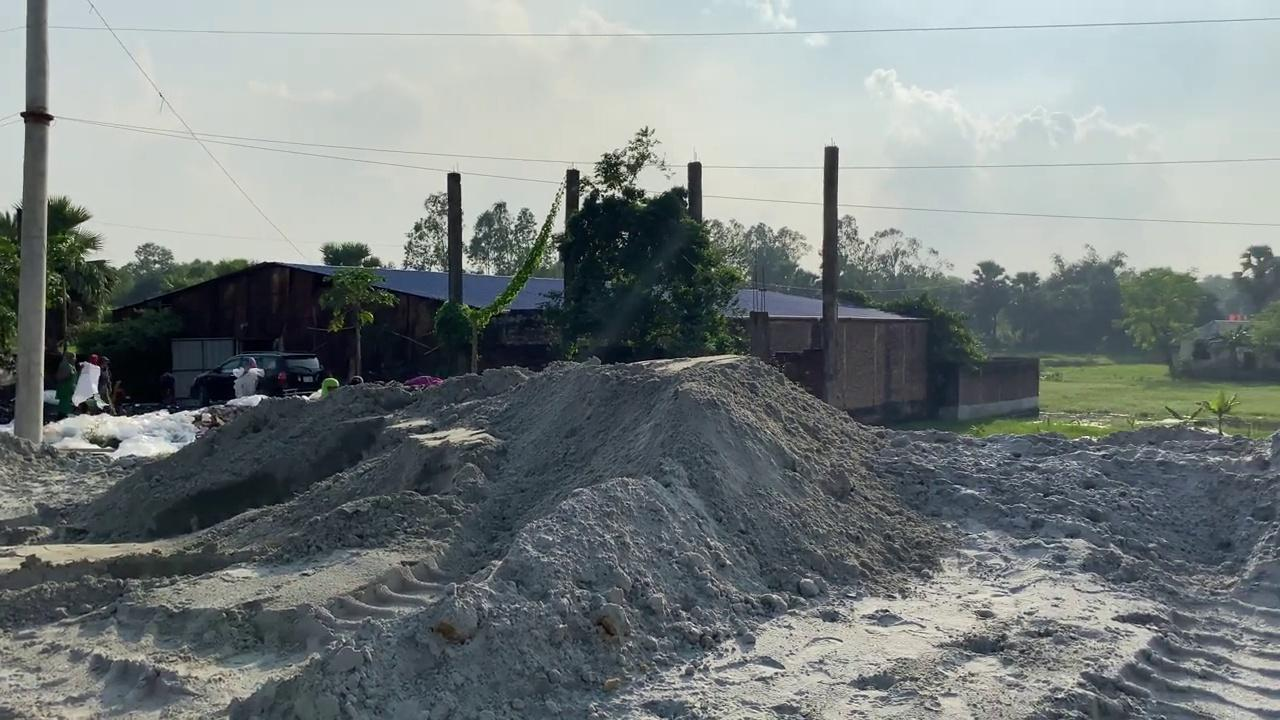Car: (189, 350, 324, 405)
Garbage: (2, 356, 1277, 717)
Pole: (13, 0, 50, 445), (820, 143, 839, 404), (446, 171, 463, 304), (686, 160, 702, 224)
Traffic-sign: (0, 192, 118, 362), (316, 262, 398, 381), (1111, 264, 1207, 365)
